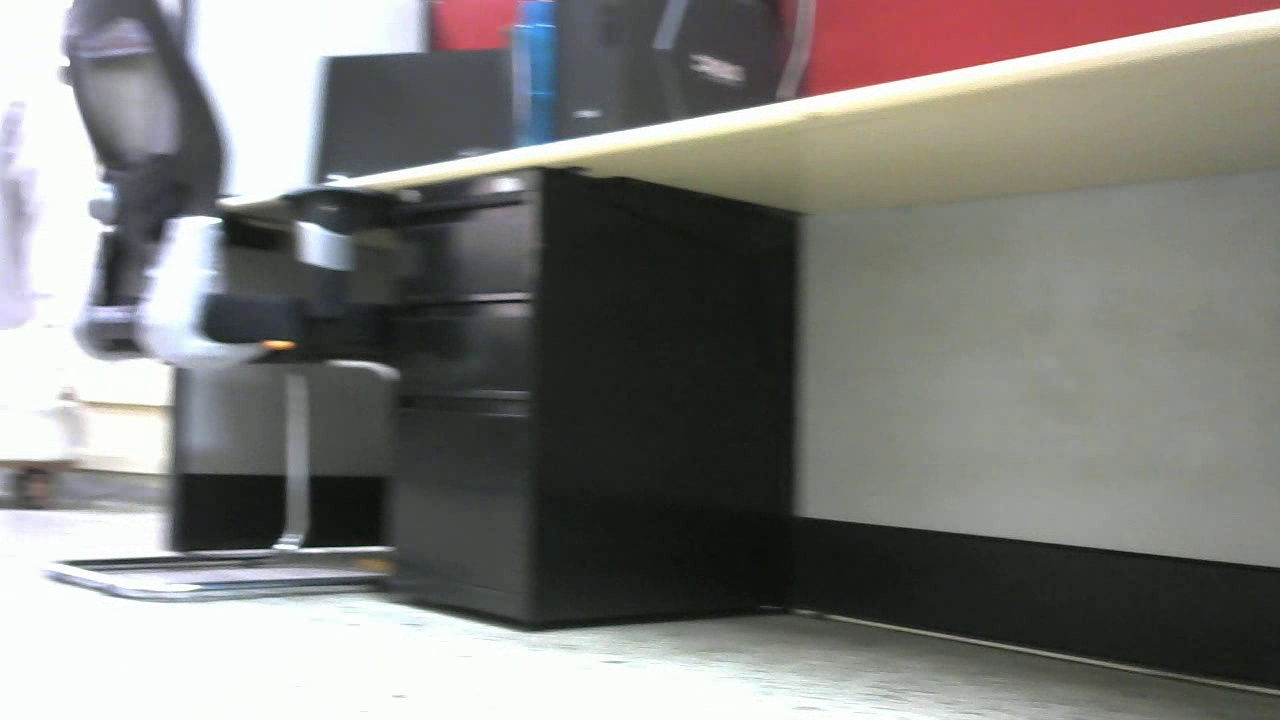chair: (49, 1, 399, 606)
